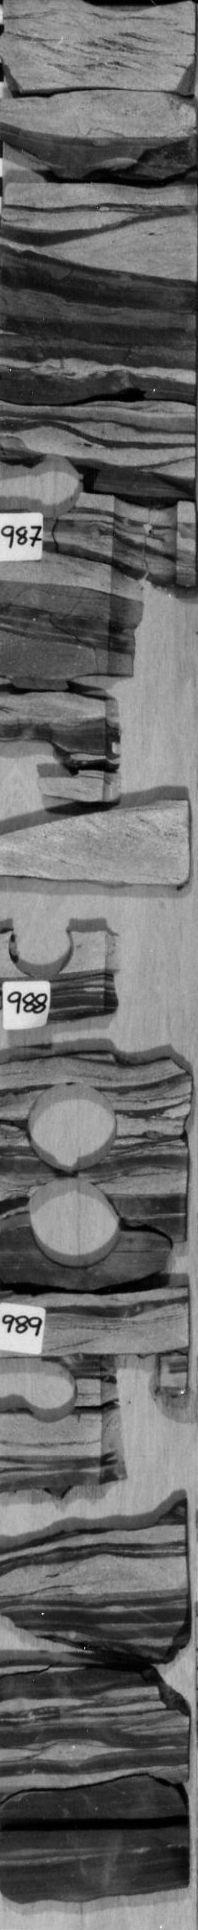hplug: (4, 922, 82, 983), (22, 455, 86, 519), (30, 1354, 82, 1427)
scal: (20, 1079, 124, 1172), (26, 1174, 125, 1270)
vplug: (105, 484, 184, 672), (100, 871, 168, 1068), (93, 1347, 172, 1486)
